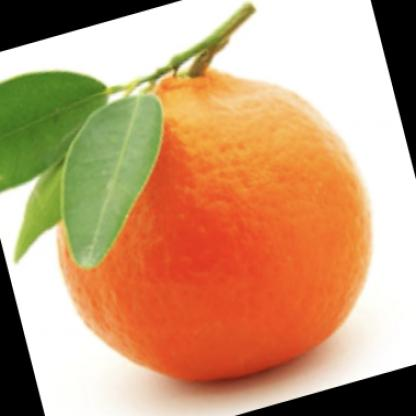orange: (61, 66, 371, 382)
